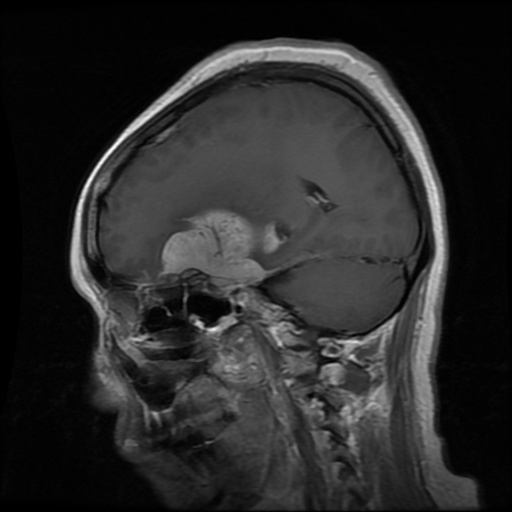meningioma: (161, 210, 268, 282)
